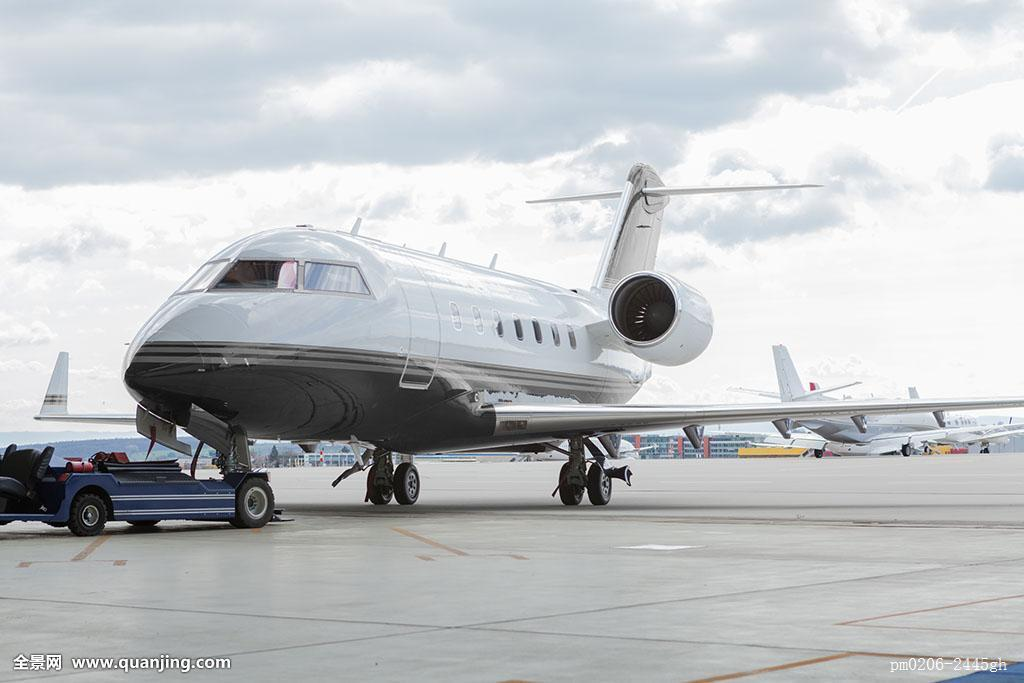airplane: (28, 153, 1019, 532)
